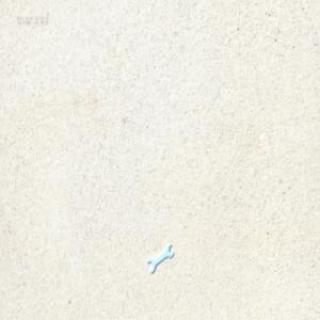Wrenchtrack_idkeyframe: (148, 243, 174, 273)
